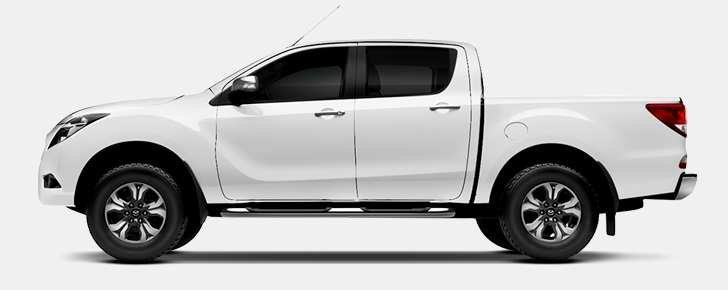pickup: (35, 36, 700, 262)
